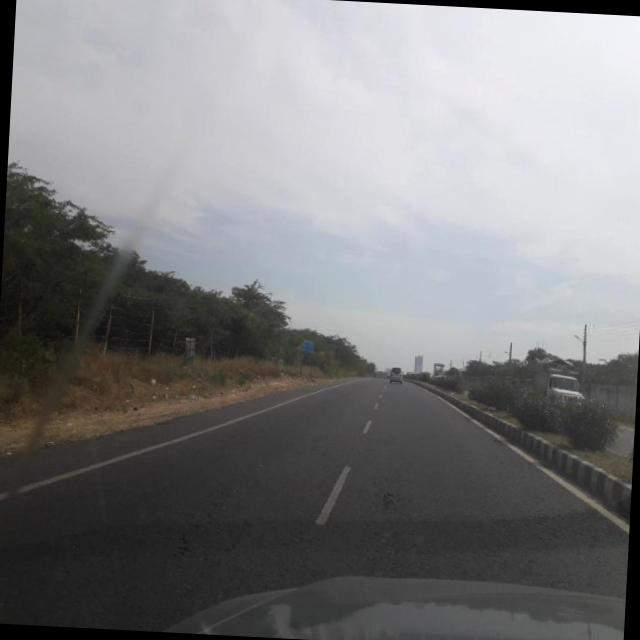pothole: (168, 480, 252, 566)
